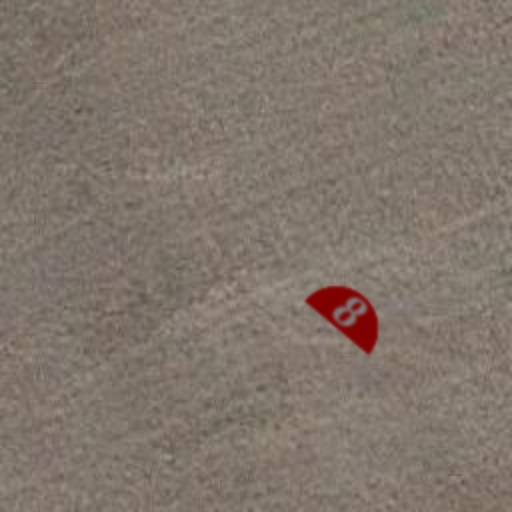semicircle: (290, 252, 410, 372)
